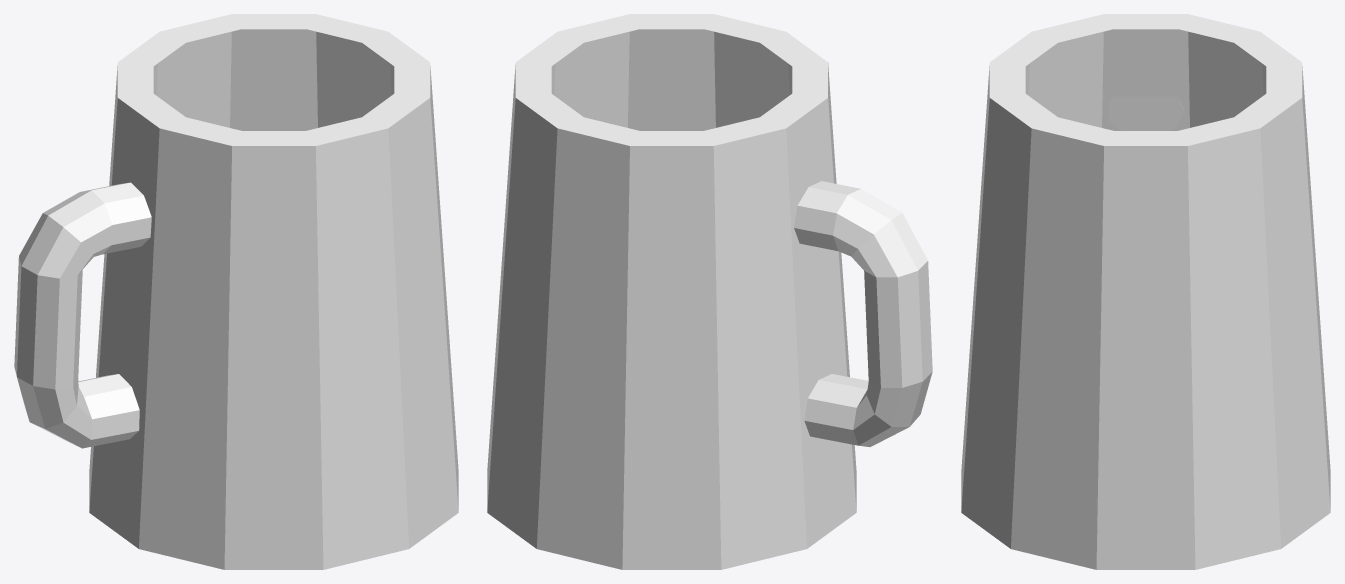
File: glass.fbx
3 views of the same model, side by side, from view 1: azimuth 30°, elevation 25°; view 2: azimuth 150°, elevation 25°; view 3: azimuth 270°, elevation 25° (orthographic).
Visible parts, largest first — view 1: cylinder; view 2: cylinder; view 3: cylinder.
Boxes of the visible parts, x1,y1,x2,y2 form: cylinder: (14,14,458,569); cylinder: (487,14,932,569); cylinder: (961,14,1330,569).
Bounding box in the file's own units: 105 × 100 × 81.25.
1 material, 1 textured.
